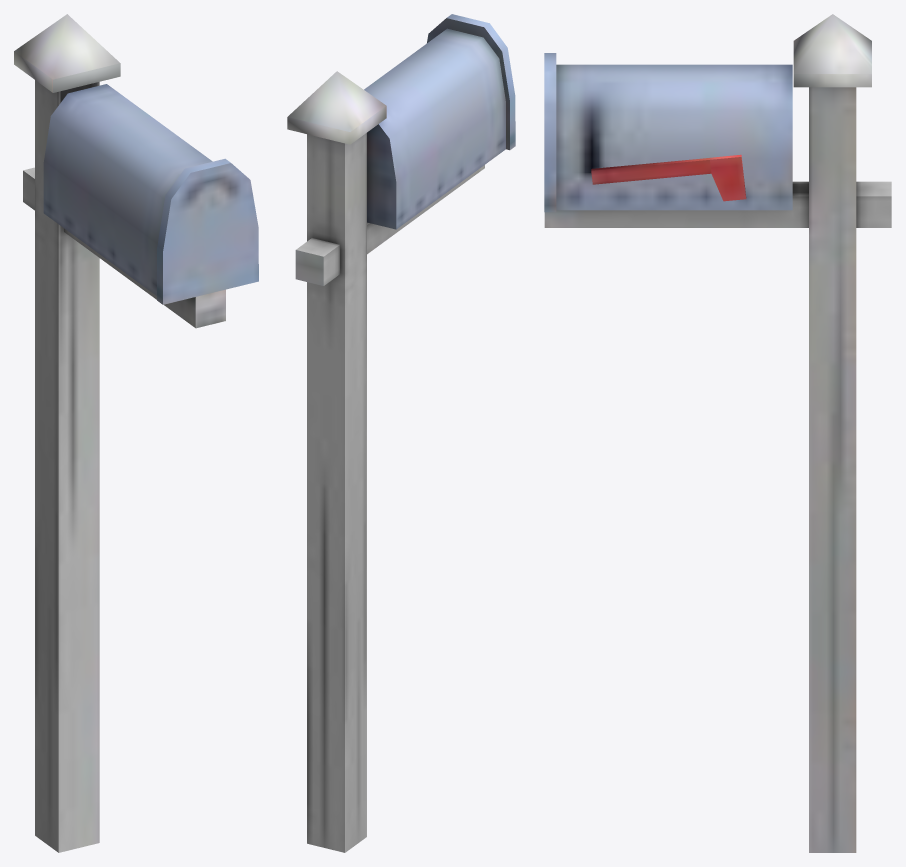
The model's file is Mailbox3.fbx.
3 views of the same model, side by side, from view 1: azimuth 30°, elevation 25°; view 2: azimuth 150°, elevation 25°; view 3: azimuth 270°, elevation 25° (orthographic). The views are drawn at different scales.
Visible parts, largest first — view 1: MailBox3; view 2: MailBox3; view 3: MailBox3.
Part boxes in pixels (x1,y1,x2,y2): MailBox3: [14, 14, 258, 852]; MailBox3: [287, 14, 515, 852]; MailBox3: [544, 14, 891, 852].
Bounding box in the file's own units: 0.1762 × 1.45 × 0.5502.
